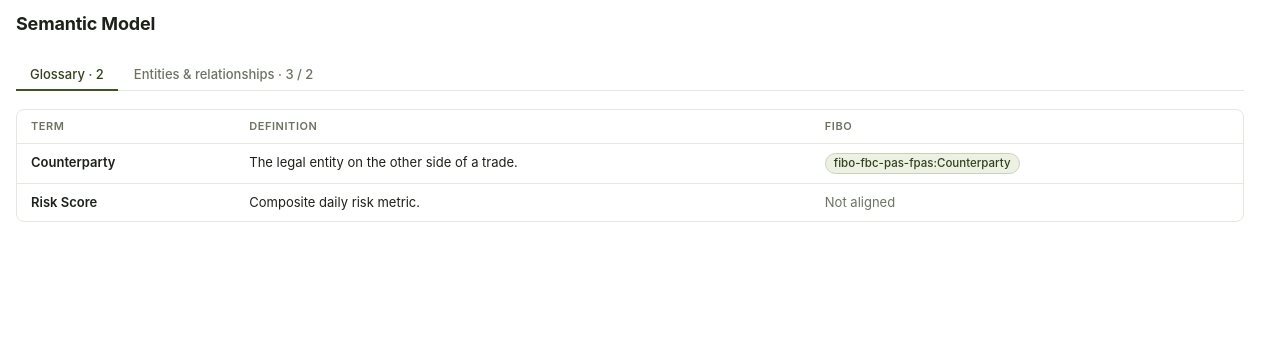
Test: opens a term drawer showing definition, FIBO URI, and governing rules
Step 1. Click the button "Counterparty" → (73, 162), box left=31, top=154, right=116, bottom=170
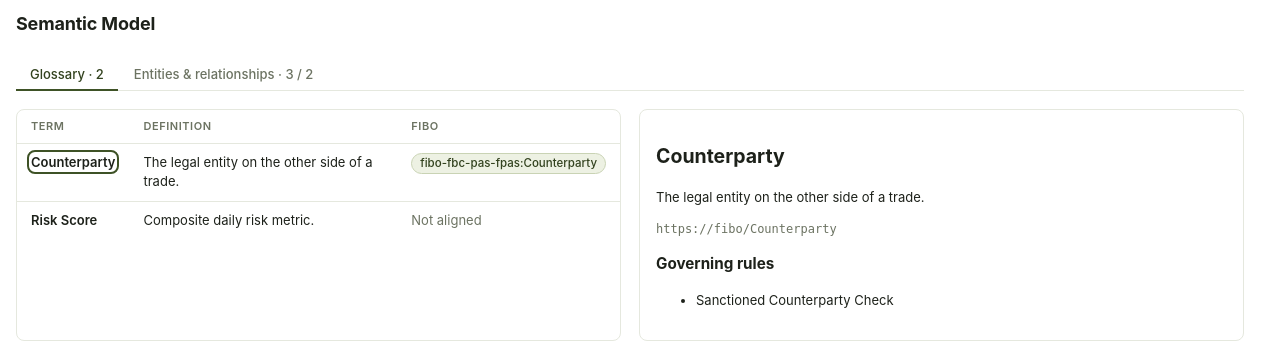
Now the list item "Sanctioned Counterparty Check" is shown, box left=696, top=292, right=894, bottom=308
